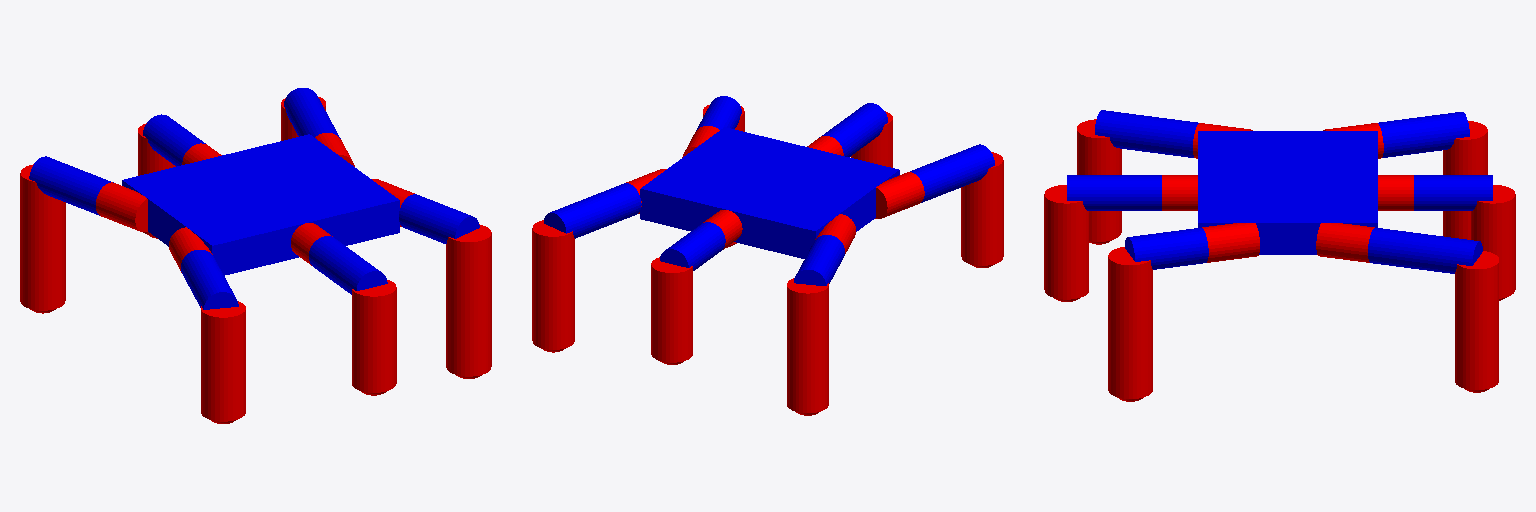
--- What the picture shows (computed from the rendered views, not written in the file) ---
The picture shows the robot from 3 angles, left to right: view 1: azimuth 30°, elevation 25°; view 2: azimuth 150°, elevation 25°; view 3: azimuth 270°, elevation 25°; orthographic projection.
Robot: pexod — 19 links, 18 joints (18 revolute); root link base_link; default pose: all joints at 0.
Visible links, largest first — view 1: base_link, leg_3_3, leg_0_3, leg_5_3, leg_4_3, leg_4_2, leg_0_2, leg_3_2, leg_5_2, leg_0_1, leg_2_2, leg_1_2 (+3 smaller); view 2: base_link, leg_0_3, leg_2_3, leg_1_3, leg_5_3, leg_2_2, leg_5_2, leg_1_2, leg_4_2, leg_0_2, leg_5_1, leg_4_3 (+3 smaller); view 3: base_link, leg_3_3, leg_2_3, leg_4_3, leg_2_2, leg_5_2, leg_4_2, leg_1_3, leg_0_2, leg_5_3, leg_1_2, leg_3_2 (+5 smaller).
Boxes of the visible links, bbox=[...] form: base_link: bbox=[122, 134, 399, 275]; leg_3_3: bbox=[446, 224, 491, 378]; leg_0_3: bbox=[20, 164, 65, 313]; leg_5_3: bbox=[201, 301, 245, 423]; leg_4_3: bbox=[352, 280, 396, 395]; leg_4_2: bbox=[309, 236, 387, 294]; leg_0_2: bbox=[29, 156, 113, 215]; leg_3_2: bbox=[399, 194, 479, 243]; leg_5_2: bbox=[181, 250, 238, 309]; leg_0_1: bbox=[96, 182, 147, 231]; leg_2_2: bbox=[284, 88, 340, 138]; leg_1_2: bbox=[143, 114, 205, 166]; base_link: bbox=[640, 127, 899, 258]; leg_0_3: bbox=[787, 278, 828, 415]; leg_2_3: bbox=[532, 220, 574, 352]; leg_1_3: bbox=[651, 257, 692, 364]; leg_5_3: bbox=[961, 152, 1003, 267]; leg_2_2: bbox=[544, 183, 641, 238]; leg_5_2: bbox=[910, 144, 994, 202]; leg_1_2: bbox=[660, 222, 725, 270]; leg_4_2: bbox=[819, 103, 887, 156]; leg_0_2: bbox=[794, 235, 844, 285]; leg_5_1: bbox=[876, 172, 924, 218]; leg_4_3: bbox=[851, 111, 892, 218]; base_link: bbox=[1198, 131, 1377, 254]; leg_3_3: bbox=[1108, 247, 1152, 401]; leg_2_3: bbox=[1455, 251, 1498, 392]; leg_4_3: bbox=[1044, 185, 1088, 301]; leg_2_2: bbox=[1368, 228, 1482, 273]; leg_5_2: bbox=[1095, 110, 1198, 157]; leg_4_2: bbox=[1067, 175, 1161, 210]; leg_1_3: bbox=[1471, 185, 1515, 300]; leg_0_2: bbox=[1378, 112, 1469, 157]; leg_5_3: bbox=[1077, 119, 1121, 244]; leg_1_2: bbox=[1414, 175, 1492, 210]; leg_3_2: bbox=[1125, 228, 1208, 269].
Size in the robot's own frame: 0.395 by 0.5237 by 0.1967 metres.
Geometry: primitives only (box / cylinder / sphere), no mesh files.

URDF robot description (pexod):
<?xml version="1.0" ?>
<!-- =================================================================================== -->
<!-- |    This document was autogenerated by xacro from pexod.xacro                    | -->
<!-- |    EDITING THIS FILE BY HAND IS NOT RECOMMENDED                                 | -->
<!-- =================================================================================== -->
<robot name="pexod" xmlns:xacro="http://www.ros.org/wiki/xacro">
  <!-- <xacro:include filename="$(find pexod_description)/urdf/pexod_control.xacro" /> -->
  <!-- MATERIALS -->
  <material name="Blue">
    <color rgba="0 0 1 1"/>
  </material>
  <material name="Red">
    <color rgba="1 0 0 1"/>
  </material>
  <material name="Green">
    <color rgba="0 1 0 1"/>
  </material>
  <material name="Yellow">
    <color rgba="1 1 0 1"/>
  </material>
  <material name="LightGrey">
    <color rgba="0.6 0.6 0.6 1.0"/>
  </material>
  <!-- END OF MATERIALS -->
  <!-- XACRO MACROS FOR VISUALS AND COLLISIONS -->
  <!-- END OF XACRO MACROS -->
  <!-- TORSO -->
  <link name="base_link">
    <visual>
      <origin rpy="0 0 0" xyz="0 0 0"/>
      <geometry>
        <box size="0.24 0.2 0.04"/>
      </geometry>
      <material name="Blue"/>
    </visual>
    <collision>
      <origin rpy="0 0 0" xyz="0 0 0"/>
      <geometry>
        <box size="0.24 0.2 0.04"/>
      </geometry>
    </collision>
    <inertial>
      <!-- CENTER OF MASS -->
      <origin rpy="0 0 0" xyz="0 0 0"/>
      <mass value="1.031"/>
      <!-- box inertia: 1/12*m(y^2+z^2), ... -->
      <inertia ixx="0.00357413333333" ixy="0" ixz="0" iyy="0.00508626666667" iyz="0" izz="0.00838546666667"/>
    </inertial>
  </link>
  <!-- XACRO MACRO FOR LEGS LINKS/JOINTS -->
  <!-- END OF LEG LINKS/JOINTS -->
  <joint name="body_leg_2" type="revolute">
    <parent link="base_link"/>
    <child link="leg_2_1"/>
    <limit effort="30.0" lower="-1.57079632679" upper="1.57079632679" velocity="7.0"/>
    <origin rpy="0 0 -0.3" xyz="0.11 0.04 0"/>
    <!-- <xacro:if value="${index == 5 or index == 4 or index == 3}">
                <axis xyz="0 0 1"/>
            </xacro:if>
            <xacro:if value="${index == 2 or index == 1 or index == 0}"> -->
    <axis xyz="0 0 1"/>
    <!-- </xacro:if> -->
    <dynamics damping="0.0"/>
  </joint>
  <link name="leg_2_1">
    <visual>
      <origin rpy="1.57079632679 0 0" xyz="0.01 0.03 0"/>
      <geometry>
        <cylinder length="0.06" radius="0.02"/>
      </geometry>
      <material name="Red"/>
    </visual>
    <collision>
      <origin rpy="1.57079632679 0 0" xyz="0.01 0.03 0"/>
      <geometry>
        <box size="0.02 0.02 0.06"/>
      </geometry>
    </collision>
    <inertial>
      <!-- CENTER OF MASS -->
      <origin rpy="1.57079632679 0 0" xyz="0.01 0.03 0"/>
      <mass value="0.02"/>
      <!-- box inertia: 1/12*m(y^2+z^2), ... -->
      <inertia ixx="6.66666666667e-06" ixy="0" ixz="0" iyy="6.66666666667e-06" iyz="0" izz="1.33333333333e-06"/>
    </inertial>
  </link>
  <joint name="leg_2_1_2" type="revolute">
    <parent link="leg_2_1"/>
    <child link="leg_2_2"/>
    <limit effort="30.0" lower="-0.78539816339" upper="0.78539816339" velocity="7.0"/>
    <origin rpy="0 0 0" xyz="0 0.06 0"/>
    <axis xyz="1 0 0"/>
    <dynamics damping="0.0"/>
  </joint>
  <link name="leg_2_2">
    <visual>
      <origin rpy="1.57079632679 0 0" xyz="0.01 0.060806714791 0"/>
      <geometry>
        <cylinder length="0.121613429582" radius="0.02"/>
      </geometry>
      <material name="Blue"/>
    </visual>
    <collision>
      <origin rpy="1.57079632679 0 0" xyz="0.01 0.060806714791 0"/>
      <geometry>
        <box size="0.02 0.02 0.121613429582"/>
      </geometry>
    </collision>
    <inertial>
      <!-- CENTER OF MASS -->
      <origin rpy="1.57079632679 0 0" xyz="0.01 0.060806714791 0"/>
      <mass value="0.184"/>
      <!-- box inertia: 1/12*m(y^2+z^2), ... -->
      <inertia ixx="0.000232910669239" ixy="0" ixz="0" iyy="0.000232910669239" iyz="0" izz="1.22666666667e-05"/>
    </inertial>
  </link>
  <joint name="leg_2_2_3" type="revolute">
    <parent link="leg_2_2"/>
    <child link="leg_2_3"/>
    <limit effort="30.0" lower="-0.78539816339" upper="0.78539816339" velocity="7.0"/>
    <origin rpy="-1.57079632679 0 0" xyz="0 0.121613429582 0"/>
    <axis xyz="-1 0 0"/>
    <dynamics damping="0.0"/>
  </joint>
  <link name="leg_2_3">
    <visual>
      <origin rpy="1.57079632679 0 0" xyz="0.0125 0.0740694298775 0"/>
      <geometry>
        <cylinder length="0.148138859755" radius="0.025"/>
      </geometry>
      <material name="Red"/>
    </visual>
    <visual>
      <origin rpy="1.57079632679 0 0" xyz="0.0125 0.135638859755 0"/>
      <geometry>
        <sphere radius="0.025"/>
      </geometry>
      <material name="Red"/>
    </visual>
    <collision>
      <origin rpy="1.57079632679 0 0" xyz="0.0125 0.0740694298775 0"/>
      <geometry>
        <box size="0.025 0.025 0.148138859755"/>
      </geometry>
    </collision>
    <collision>
      <origin rpy="1.57079632679 0 0" xyz="0.0125 0.135638859755 0"/>
      <geometry>
        <sphere radius="0.025"/>
      </geometry>
      <material name="Red"/>
    </collision>
    <inertial>
      <!-- CENTER OF MASS -->
      <origin rpy="1.57079632679 0 0" xyz="0.0125 0.0740694298775 0"/>
      <mass value="0.04"/>
      <!-- box inertia: 1/12*m(y^2+z^2), ... -->
      <inertia ixx="7.52337392317e-05" ixy="0" ixz="0" iyy="7.52337392317e-05" iyz="0" izz="4.16666666667e-06"/>
    </inertial>
  </link>
  <joint name="body_leg_3" type="revolute">
    <parent link="base_link"/>
    <child link="leg_3_1"/>
    <limit effort="30.0" lower="-1.57079632679" upper="1.57079632679" velocity="7.0"/>
    <origin rpy="0 0 0.3" xyz="0.11 -0.04 0"/>
    <!-- <xacro:if value="${index == 5 or index == 4 or index == 3}">
                <axis xyz="0 0 1"/>
            </xacro:if>
            <xacro:if value="${index == 2 or index == 1 or index == 0}"> -->
    <axis xyz="0 0 1"/>
    <!-- </xacro:if> -->
    <dynamics damping="0.0"/>
  </joint>
  <link name="leg_3_1">
    <visual>
      <origin rpy="1.57079632679 0 0" xyz="0.01 -0.03 0"/>
      <geometry>
        <cylinder length="0.06" radius="0.02"/>
      </geometry>
      <material name="Red"/>
    </visual>
    <collision>
      <origin rpy="1.57079632679 0 0" xyz="0.01 -0.03 0"/>
      <geometry>
        <box size="0.02 0.02 0.06"/>
      </geometry>
    </collision>
    <inertial>
      <!-- CENTER OF MASS -->
      <origin rpy="1.57079632679 0 0" xyz="0.01 -0.03 0"/>
      <mass value="0.02"/>
      <!-- box inertia: 1/12*m(y^2+z^2), ... -->
      <inertia ixx="6.66666666667e-06" ixy="0" ixz="0" iyy="6.66666666667e-06" iyz="0" izz="1.33333333333e-06"/>
    </inertial>
  </link>
  <joint name="leg_3_1_2" type="revolute">
    <parent link="leg_3_1"/>
    <child link="leg_3_2"/>
    <limit effort="30.0" lower="-0.78539816339" upper="0.78539816339" velocity="7.0"/>
    <origin rpy="0 0 0" xyz="0 -0.06 0"/>
    <axis xyz="-1 0 0"/>
    <dynamics damping="0.0"/>
  </joint>
  <link name="leg_3_2">
    <visual>
      <origin rpy="1.57079632679 0 0" xyz="0.01 -0.0426948830788 0"/>
      <geometry>
        <cylinder length="0.0853897661575" radius="0.02"/>
      </geometry>
      <material name="Blue"/>
    </visual>
    <collision>
      <origin rpy="1.57079632679 0 0" xyz="0.01 -0.0426948830788 0"/>
      <geometry>
        <box size="0.02 0.02 0.0853897661575"/>
      </geometry>
    </collision>
    <inertial>
      <!-- CENTER OF MASS -->
      <origin rpy="1.57079632679 0 0" xyz="0.01 -0.0426948830788 0"/>
      <mass value="0.184"/>
      <!-- box inertia: 1/12*m(y^2+z^2), ... -->
      <inertia ixx="0.000117934986521" ixy="0" ixz="0" iyy="0.000117934986521" iyz="0" izz="1.22666666667e-05"/>
    </inertial>
  </link>
  <joint name="leg_3_2_3" type="revolute">
    <parent link="leg_3_2"/>
    <child link="leg_3_3"/>
    <limit effort="30.0" lower="-0.78539816339" upper="0.78539816339" velocity="7.0"/>
    <origin rpy="1.57079632679 0 0" xyz="0 -0.0853897661575 0"/>
    <axis xyz="1 0 0"/>
    <dynamics damping="0.0"/>
  </joint>
  <link name="leg_3_3">
    <visual>
      <origin rpy="1.57079632679 0 0" xyz="0.0125 -0.082113893344 0"/>
      <geometry>
        <cylinder length="0.164227786688" radius="0.025"/>
      </geometry>
      <material name="Red"/>
    </visual>
    <visual>
      <origin rpy="1.57079632679 0 0" xyz="0.0125 -0.151727786688 0"/>
      <geometry>
        <sphere radius="0.025"/>
      </geometry>
      <material name="Red"/>
    </visual>
    <collision>
      <origin rpy="1.57079632679 0 0" xyz="0.0125 -0.082113893344 0"/>
      <geometry>
        <box size="0.025 0.025 0.164227786688"/>
      </geometry>
    </collision>
    <collision>
      <origin rpy="1.57079632679 0 0" xyz="0.0125 -0.151727786688 0"/>
      <geometry>
        <sphere radius="0.025"/>
      </geometry>
      <material name="Red"/>
    </collision>
    <inertial>
      <!-- CENTER OF MASS -->
      <origin rpy="1.57079632679 0 0" xyz="0.0125 -0.082113893344 0"/>
      <mass value="0.04"/>
      <!-- box inertia: 1/12*m(y^2+z^2), ... -->
      <inertia ixx="9.19858864015e-05" ixy="0" ixz="0" iyy="9.19858864015e-05" iyz="0" izz="4.16666666667e-06"/>
    </inertial>
  </link>
  <joint name="body_leg_0" type="revolute">
    <parent link="base_link"/>
    <child link="leg_0_1"/>
    <limit effort="30.0" lower="-1.57079632679" upper="1.57079632679" velocity="7.0"/>
    <origin rpy="0 0 0.3" xyz="-0.13 0.04 0"/>
    <!-- <xacro:if value="${index == 5 or index == 4 or index == 3}">
                <axis xyz="0 0 1"/>
            </xacro:if>
            <xacro:if value="${index == 2 or index == 1 or index == 0}"> -->
    <axis xyz="0 0 1"/>
    <!-- </xacro:if> -->
    <dynamics damping="0.0"/>
  </joint>
  <link name="leg_0_1">
    <visual>
      <origin rpy="1.57079632679 0 0" xyz="0.01 0.03 0"/>
      <geometry>
        <cylinder length="0.06" radius="0.02"/>
      </geometry>
      <material name="Red"/>
    </visual>
    <collision>
      <origin rpy="1.57079632679 0 0" xyz="0.01 0.03 0"/>
      <geometry>
        <box size="0.02 0.02 0.06"/>
      </geometry>
    </collision>
    <inertial>
      <!-- CENTER OF MASS -->
      <origin rpy="1.57079632679 0 0" xyz="0.01 0.03 0"/>
      <mass value="0.02"/>
      <!-- box inertia: 1/12*m(y^2+z^2), ... -->
      <inertia ixx="6.66666666667e-06" ixy="0" ixz="0" iyy="6.66666666667e-06" iyz="0" izz="1.33333333333e-06"/>
    </inertial>
  </link>
  <joint name="leg_0_1_2" type="revolute">
    <parent link="leg_0_1"/>
    <child link="leg_0_2"/>
    <limit effort="30.0" lower="-0.78539816339" upper="0.78539816339" velocity="7.0"/>
    <origin rpy="0 0 0" xyz="0 0.06 0"/>
    <axis xyz="1 0 0"/>
    <dynamics damping="0.0"/>
  </joint>
  <link name="leg_0_2">
    <visual>
      <origin rpy="1.57079632679 0 0" xyz="0.01 0.050148940832 0"/>
      <geometry>
        <cylinder length="0.100297881664" radius="0.02"/>
      </geometry>
      <material name="Blue"/>
    </visual>
    <collision>
      <origin rpy="1.57079632679 0 0" xyz="0.01 0.050148940832 0"/>
      <geometry>
        <box size="0.02 0.02 0.100297881664"/>
      </geometry>
    </collision>
    <inertial>
      <!-- CENTER OF MASS -->
      <origin rpy="1.57079632679 0 0" xyz="0.01 0.050148940832 0"/>
      <mass value="0.184"/>
      <!-- box inertia: 1/12*m(y^2+z^2), ... -->
      <inertia ixx="0.000160381531016" ixy="0" ixz="0" iyy="0.000160381531016" iyz="0" izz="1.22666666667e-05"/>
    </inertial>
  </link>
  <joint name="leg_0_2_3" type="revolute">
    <parent link="leg_0_2"/>
    <child link="leg_0_3"/>
    <limit effort="30.0" lower="-0.78539816339" upper="0.78539816339" velocity="7.0"/>
    <origin rpy="-1.57079632679 0 0" xyz="0 0.100297881664 0"/>
    <axis xyz="-1 0 0"/>
    <dynamics damping="0.0"/>
  </joint>
  <link name="leg_0_3">
    <visual>
      <origin rpy="1.57079632679 0 0" xyz="0.0125 0.0784333759135 0"/>
      <geometry>
        <cylinder length="0.156866751827" radius="0.025"/>
      </geometry>
      <material name="Red"/>
    </visual>
    <visual>
      <origin rpy="1.57079632679 0 0" xyz="0.0125 0.144366751827 0"/>
      <geometry>
        <sphere radius="0.025"/>
      </geometry>
      <material name="Red"/>
    </visual>
    <collision>
      <origin rpy="1.57079632679 0 0" xyz="0.0125 0.0784333759135 0"/>
      <geometry>
        <box size="0.025 0.025 0.156866751827"/>
      </geometry>
    </collision>
    <collision>
      <origin rpy="1.57079632679 0 0" xyz="0.0125 0.144366751827 0"/>
      <geometry>
        <sphere radius="0.025"/>
      </geometry>
      <material name="Red"/>
    </collision>
    <inertial>
      <!-- CENTER OF MASS -->
      <origin rpy="1.57079632679 0 0" xyz="0.0125 0.0784333759135 0"/>
      <mass value="0.04"/>
      <!-- box inertia: 1/12*m(y^2+z^2), ... -->
      <inertia ixx="8.41072594292e-05" ixy="0" ixz="0" iyy="8.41072594292e-05" iyz="0" izz="4.16666666667e-06"/>
    </inertial>
  </link>
  <joint name="body_leg_5" type="revolute">
    <parent link="base_link"/>
    <child link="leg_5_1"/>
    <limit effort="30.0" lower="-1.57079632679" upper="1.57079632679" velocity="7.0"/>
    <origin rpy="0 0 -0.3" xyz="-0.13 -0.04 0"/>
    <!-- <xacro:if value="${index == 5 or index == 4 or index == 3}">
                <axis xyz="0 0 1"/>
            </xacro:if>
            <xacro:if value="${index == 2 or index == 1 or index == 0}"> -->
    <axis xyz="0 0 1"/>
    <!-- </xacro:if> -->
    <dynamics damping="0.0"/>
  </joint>
  <link name="leg_5_1">
    <visual>
      <origin rpy="1.57079632679 0 0" xyz="0.01 -0.03 0"/>
      <geometry>
        <cylinder length="0.06" radius="0.02"/>
      </geometry>
      <material name="Red"/>
    </visual>
    <collision>
      <origin rpy="1.57079632679 0 0" xyz="0.01 -0.03 0"/>
      <geometry>
        <box size="0.02 0.02 0.06"/>
      </geometry>
    </collision>
    <inertial>
      <!-- CENTER OF MASS -->
      <origin rpy="1.57079632679 0 0" xyz="0.01 -0.03 0"/>
      <mass value="0.02"/>
      <!-- box inertia: 1/12*m(y^2+z^2), ... -->
      <inertia ixx="6.66666666667e-06" ixy="0" ixz="0" iyy="6.66666666667e-06" iyz="0" izz="1.33333333333e-06"/>
    </inertial>
  </link>
  <joint name="leg_5_1_2" type="revolute">
    <parent link="leg_5_1"/>
    <child link="leg_5_2"/>
    <limit effort="30.0" lower="-0.78539816339" upper="0.78539816339" velocity="7.0"/>
    <origin rpy="0 0 0" xyz="0 -0.06 0"/>
    <axis xyz="-1 0 0"/>
    <dynamics damping="0.0"/>
  </joint>
  <link name="leg_5_2">
    <visual>
      <origin rpy="1.57079632679 0 0" xyz="0.01 -0.0571678732565 0"/>
      <geometry>
        <cylinder length="0.114335746513" radius="0.02"/>
      </geometry>
      <material name="Blue"/>
    </visual>
    <collision>
      <origin rpy="1.57079632679 0 0" xyz="0.01 -0.0571678732565 0"/>
      <geometry>
        <box size="0.02 0.02 0.114335746513"/>
      </geometry>
    </collision>
    <inertial>
      <!-- CENTER OF MASS -->
      <origin rpy="1.57079632679 0 0" xyz="0.01 -0.0571678732565 0"/>
      <mass value="0.184"/>
      <!-- box inertia: 1/12*m(y^2+z^2), ... -->
      <inertia ixx="0.000206580831604" ixy="0" ixz="0" iyy="0.000206580831604" iyz="0" izz="1.22666666667e-05"/>
    </inertial>
  </link>
  <joint name="leg_5_2_3" type="revolute">
    <parent link="leg_5_2"/>
    <child link="leg_5_3"/>
    <limit effort="30.0" lower="-0.78539816339" upper="0.78539816339" velocity="7.0"/>
    <origin rpy="1.57079632679 0 0" xyz="0 -0.114335746513 0"/>
    <axis xyz="1 0 0"/>
    <dynamics damping="0.0"/>
  </joint>
  <link name="leg_5_3">
    <visual>
      <origin rpy="1.57079632679 0 0" xyz="0.0125 -0.0635893274155 0"/>
      <geometry>
        <cylinder length="0.127178654831" radius="0.025"/>
      </geometry>
      <material name="Red"/>
    </visual>
    <visual>
      <origin rpy="1.57079632679 0 0" xyz="0.0125 -0.114678654831 0"/>
      <geometry>
        <sphere radius="0.025"/>
      </geometry>
      <material name="Red"/>
    </visual>
    <collision>
      <origin rpy="1.57079632679 0 0" xyz="0.0125 -0.0635893274155 0"/>
      <geometry>
        <box size="0.025 0.025 0.127178654831"/>
      </geometry>
    </collision>
    <collision>
      <origin rpy="1.57079632679 0 0" xyz="0.0125 -0.114678654831 0"/>
      <geometry>
        <sphere radius="0.025"/>
      </geometry>
      <material name="Red"/>
    </collision>
    <inertial>
      <!-- CENTER OF MASS -->
      <origin rpy="1.57079632679 0 0" xyz="0.0125 -0.0635893274155 0"/>
      <mass value="0.04"/>
      <!-- box inertia: 1/12*m(y^2+z^2), ... -->
      <inertia ixx="5.59980341487e-05" ixy="0" ixz="0" iyy="5.59980341487e-05" iyz="0" izz="4.16666666667e-06"/>
    </inertial>
  </link>
  <joint name="body_leg_1" type="revolute">
    <parent link="base_link"/>
    <child link="leg_1_1"/>
    <limit effort="30.0" lower="-1.57079632679" upper="1.57079632679" velocity="7.0"/>
    <origin rpy="0 0 0" xyz="-0.01 0.08 0"/>
    <!-- <xacro:if value="${index == 5 or index == 4 or index == 3}">
                <axis xyz="0 0 1"/>
            </xacro:if>
            <xacro:if value="${index == 2 or index == 1 or index == 0}"> -->
    <axis xyz="0 0 1"/>
    <!-- </xacro:if> -->
    <dynamics damping="0.0"/>
  </joint>
  <link name="leg_1_1">
    <visual>
      <origin rpy="1.57079632679 0 0" xyz="0.01 0.03 0"/>
      <geometry>
        <cylinder length="0.06" radius="0.02"/>
      </geometry>
      <material name="Red"/>
    </visual>
    <collision>
      <origin rpy="1.57079632679 0 0" xyz="0.01 0.03 0"/>
      <geometry>
        <box size="0.02 0.02 0.06"/>
      </geometry>
    </collision>
    <inertial>
      <!-- CENTER OF MASS -->
      <origin rpy="1.57079632679 0 0" xyz="0.01 0.03 0"/>
      <mass value="0.02"/>
      <!-- box inertia: 1/12*m(y^2+z^2), ... -->
      <inertia ixx="6.66666666667e-06" ixy="0" ixz="0" iyy="6.66666666667e-06" iyz="0" izz="1.33333333333e-06"/>
    </inertial>
  </link>
  <joint name="leg_1_1_2" type="revolute">
    <parent link="leg_1_1"/>
    <child link="leg_1_2"/>
    <limit effort="30.0" lower="-0.78539816339" upper="0.78539816339" velocity="7.0"/>
    <origin rpy="0 0 0" xyz="0 0.06 0"/>
    <axis xyz="1 0 0"/>
    <dynamics damping="0.0"/>
  </joint>
  <link name="leg_1_2">
    <visual>
      <origin rpy="1.57079632679 0 0" xyz="0.01 0.0438194402339 0"/>
      <geometry>
        <cylinder length="0.0876388804678" radius="0.02"/>
      </geometry>
      <material name="Blue"/>
    </visual>
    <collision>
      <origin rpy="1.57079632679 0 0" xyz="0.01 0.0438194402339 0"/>
      <geometry>
        <box size="0.02 0.02 0.0876388804678"/>
      </geometry>
    </collision>
    <inertial>
      <!-- CENTER OF MASS -->
      <origin rpy="1.57079632679 0 0" xyz="0.01 0.0438194402339 0"/>
      <mass value="0.184"/>
      <!-- box inertia: 1/12*m(y^2+z^2), ... -->
      <inertia ixx="0.000123902125001" ixy="0" ixz="0" iyy="0.000123902125001" iyz="0" izz="1.22666666667e-05"/>
    </inertial>
  </link>
  <joint name="leg_1_2_3" type="revolute">
    <parent link="leg_1_2"/>
    <child link="leg_1_3"/>
    <limit effort="30.0" lower="-0.78539816339" upper="0.78539816339" velocity="7.0"/>
    <origin rpy="-1.57079632679 0 0" xyz="0 0.0876388804678 0"/>
    <axis xyz="-1 0 0"/>
    <dynamics damping="0.0"/>
  </joint>
  <link name="leg_1_3">
    <visual>
      <origin rpy="1.57079632679 0 0" xyz="0.0125 0.0586392475475 0"/>
      <geometry>
        <cylinder length="0.117278495095" radius="0.025"/>
      </geometry>
      <material name="Red"/>
    </visual>
    <visual>
      <origin rpy="1.57079632679 0 0" xyz="0.0125 0.104778495095 0"/>
      <geometry>
        <sphere radius="0.025"/>
      </geometry>
      <material name="Red"/>
    </visual>
    <collision>
      <origin rpy="1.57079632679 0 0" xyz="0.0125 0.0586392475475 0"/>
      <geometry>
        <box size="0.025 0.025 0.117278495095"/>
      </geometry>
    </collision>
    <collision>
      <origin rpy="1.57079632679 0 0" xyz="0.0125 0.104778495095 0"/>
      <geometry>
        <sphere radius="0.025"/>
      </geometry>
      <material name="Red"/>
    </collision>
    <inertial>
      <!-- CENTER OF MASS -->
      <origin rpy="1.57079632679 0 0" xyz="0.0125 0.0586392475475 0"/>
      <mass value="0.04"/>
      <!-- box inertia: 1/12*m(y^2+z^2), ... -->
      <inertia ixx="4.79308180392e-05" ixy="0" ixz="0" iyy="4.79308180392e-05" iyz="0" izz="4.16666666667e-06"/>
    </inertial>
  </link>
  <joint name="body_leg_4" type="revolute">
    <parent link="base_link"/>
    <child link="leg_4_1"/>
    <limit effort="30.0" lower="-1.57079632679" upper="1.57079632679" velocity="7.0"/>
    <origin rpy="0 0 0" xyz="-0.01 -0.08 0"/>
    <!-- <xacro:if value="${index == 5 or index == 4 or index == 3}">
                <axis xyz="0 0 1"/>
            </xacro:if>
            <xacro:if value="${index == 2 or index == 1 or index == 0}"> -->
    <axis xyz="0 0 1"/>
    <!-- </xacro:if> -->
    <dynamics damping="0.0"/>
  </joint>
  <link name="leg_4_1">
    <visual>
      <origin rpy="1.57079632679 0 0" xyz="0.01 -0.03 0"/>
      <geometry>
        <cylinder length="0.06" radius="0.02"/>
      </geometry>
      <material name="Red"/>
    </visual>
    <collision>
      <origin rpy="1.57079632679 0 0" xyz="0.01 -0.03 0"/>
      <geometry>
        <box size="0.02 0.02 0.06"/>
      </geometry>
    </collision>
    <inertial>
      <!-- CENTER OF MASS -->
      <origin rpy="1.57079632679 0 0" xyz="0.01 -0.03 0"/>
      <mass value="0.02"/>
      <!-- box inertia: 1/12*m(y^2+z^2), ... -->
      <inertia ixx="6.66666666667e-06" ixy="0" ixz="0" iyy="6.66666666667e-06" iyz="0" izz="1.33333333333e-06"/>
    </inertial>
  </link>
  <joint name="leg_4_1_2" type="revolute">
    <parent link="leg_4_1"/>
    <child link="leg_4_2"/>
    <limit effort="30.0" lower="-0.78539816339" upper="0.78539816339" velocity="7.0"/>
    <origin rpy="0 0 0" xyz="0 -0.06 0"/>
    <axis xyz="-1 0 0"/>
    <dynamics damping="0.0"/>
  </joint>
  <link name="leg_4_2">
    <visual>
      <origin rpy="1.57079632679 0 0" xyz="0.01 -0.053006769999 0"/>
      <geometry>
        <cylinder length="0.106013539998" radius="0.02"/>
      </geometry>
      <material name="Blue"/>
    </visual>
    <collision>
      <origin rpy="1.57079632679 0 0" xyz="0.01 -0.053006769999 0"/>
      <geometry>
        <box size="0.02 0.02 0.106013539998"/>
      </geometry>
    </collision>
    <inertial>
      <!-- CENTER OF MASS -->
      <origin rpy="1.57079632679 0 0" xyz="0.01 -0.053006769999 0"/>
      <mass value="0.184"/>
      <!-- box inertia: 1/12*m(y^2+z^2), ... -->
      <inertia ixx="0.000178462683498" ixy="0" ixz="0" iyy="0.000178462683498" iyz="0" izz="1.22666666667e-05"/>
    </inertial>
  </link>
  <joint name="leg_4_2_3" type="revolute">
    <parent link="leg_4_2"/>
    <child link="leg_4_3"/>
    <limit effort="30.0" lower="-0.78539816339" upper="0.78539816339" velocity="7.0"/>
    <origin rpy="1.57079632679 0 0" xyz="0 -0.106013539998 0"/>
    <axis xyz="1 0 0"/>
    <dynamics damping="0.0"/>
  </joint>
  <link name="leg_4_3">
    <visual>
      <origin rpy="1.57079632679 0 0" xyz="0.0125 -0.058884643902 0"/>
      <geometry>
        <cylinder length="0.117769287804" radius="0.025"/>
      </geometry>
      <material name="Red"/>
    </visual>
    <visual>
      <origin rpy="1.57079632679 0 0" xyz="0.0125 -0.105269287804 0"/>
      <geometry>
        <sphere radius="0.025"/>
      </geometry>
      <material name="Red"/>
    </visual>
    <collision>
      <origin rpy="1.57079632679 0 0" xyz="0.0125 -0.058884643902 0"/>
      <geometry>
        <box size="0.025 0.025 0.117769287804"/>
      </geometry>
    </collision>
    <collision>
      <origin rpy="1.57079632679 0 0" xyz="0.0125 -0.105269287804 0"/>
      <geometry>
        <sphere radius="0.025"/>
      </geometry>
      <material name="Red"/>
    </collision>
    <inertial>
      <!-- CENTER OF MASS -->
      <origin rpy="1.57079632679 0 0" xyz="0.0125 -0.058884643902 0"/>
      <mass value="0.04"/>
      <!-- box inertia: 1/12*m(y^2+z^2), ... -->
      <inertia ixx="4.83153504995e-05" ixy="0" ixz="0" iyy="4.83153504995e-05" iyz="0" izz="4.16666666667e-06"/>
    </inertial>
  </link>
  <!-- END OF LEG LINKS/JOINTS -->
</robot>
